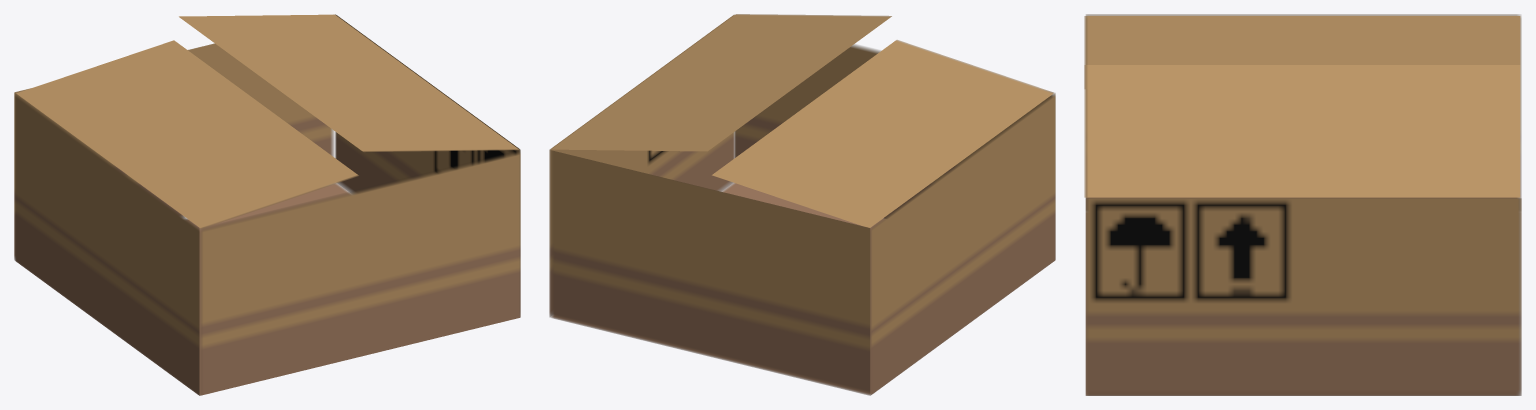
Rendered from cuboid2Opened.glb.
3 renders of one model, left to right at view 1: azimuth 30°, elevation 25°; view 2: azimuth 150°, elevation 25°; view 3: azimuth 270°, elevation 25°, orthographic. The views are drawn at different scales.
Visible parts, largest first — view 1: cuboid_8; view 2: cuboid_8; view 3: cuboid_8.
Part boxes in pixels (x1,y1,x2,y2): cuboid_8: (14,14,520,395); cuboid_8: (549,14,1055,395); cuboid_8: (1084,14,1521,395).
Size of the model in its own units: 1 by 0.6082 by 1.
Materials: 1 (1 with a texture image).
